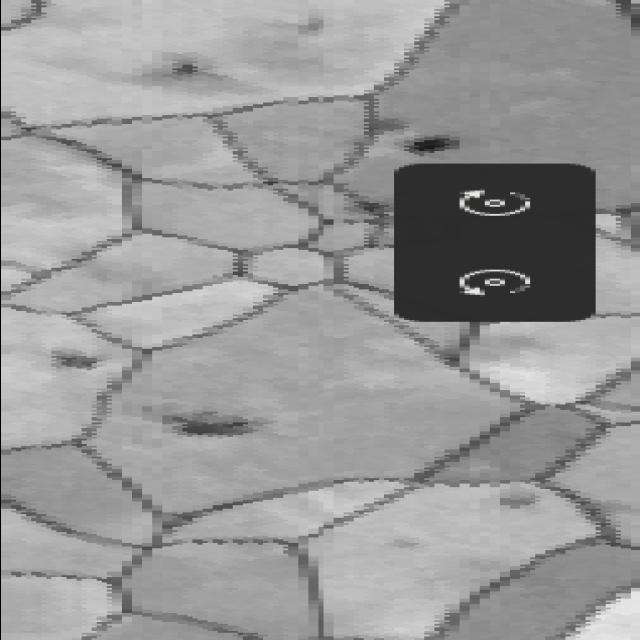good_void: (140, 413, 277, 445), (29, 342, 110, 379), (391, 130, 469, 158), (283, 6, 339, 38), (161, 50, 213, 82), (336, 194, 386, 221), (486, 488, 550, 509), (358, 116, 411, 138), (377, 531, 428, 553)
